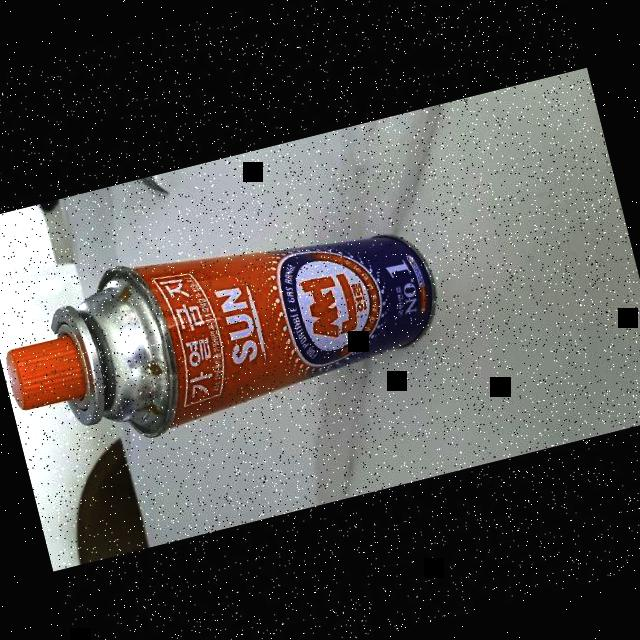chemical_spray_can: (0, 173, 473, 480)
